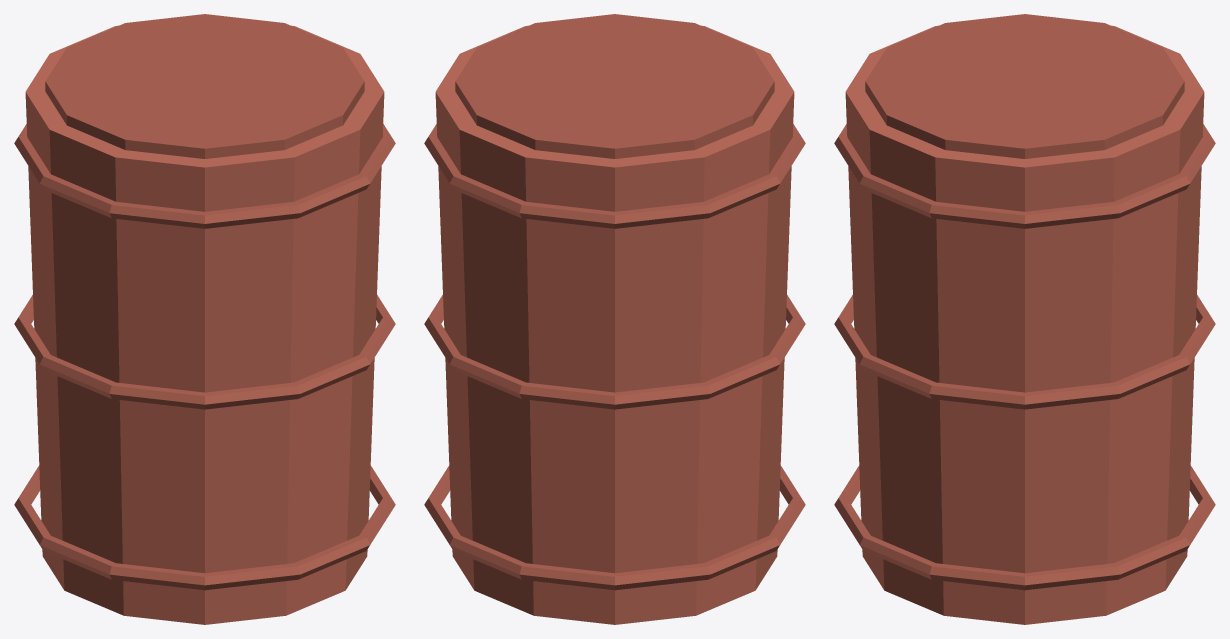
File: barrel_fuel_01.glb
The picture shows the model from 3 angles, left to right: view 1: azimuth 30°, elevation 25°; view 2: azimuth 150°, elevation 25°; view 3: azimuth 270°, elevation 25°; orthographic projection.
Visible parts, largest first — view 1: barrel_fuel_01; view 2: barrel_fuel_01; view 3: barrel_fuel_01.
Part boxes in pixels (x1=…): barrel_fuel_01: x1=14, y1=14, x2=395, y2=624; barrel_fuel_01: x1=424, y1=14, x2=805, y2=624; barrel_fuel_01: x1=834, y1=14, x2=1215, y2=624.
Size of the model in its own units: 0.67 by 0.92 by 0.67.
